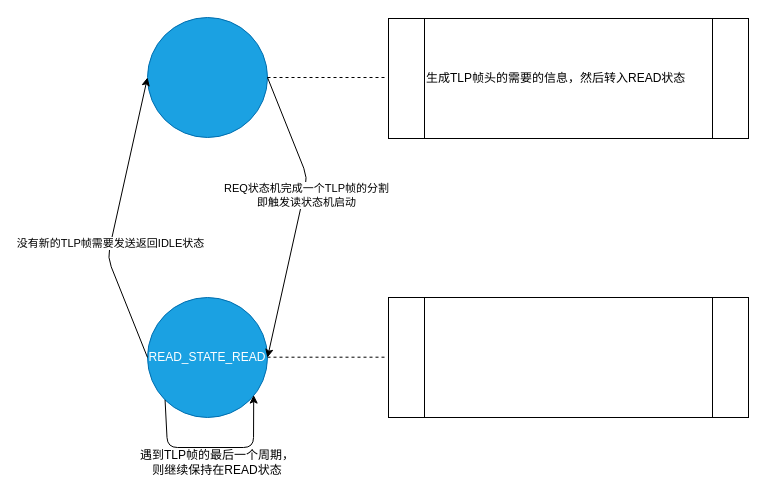
The diagram is 767 pixels wide and 495 high, and some of its shapes have lost their labels. The centre of each missing label's shape, as x and y in pixels:
"READ_STATE_IDLE" goes at [207,77].
"更新每个周期的读地址信息，先产生read_ram_mask状态，然后下一个时钟生成ram_rd_cmd_addr" goes at [568,357].
